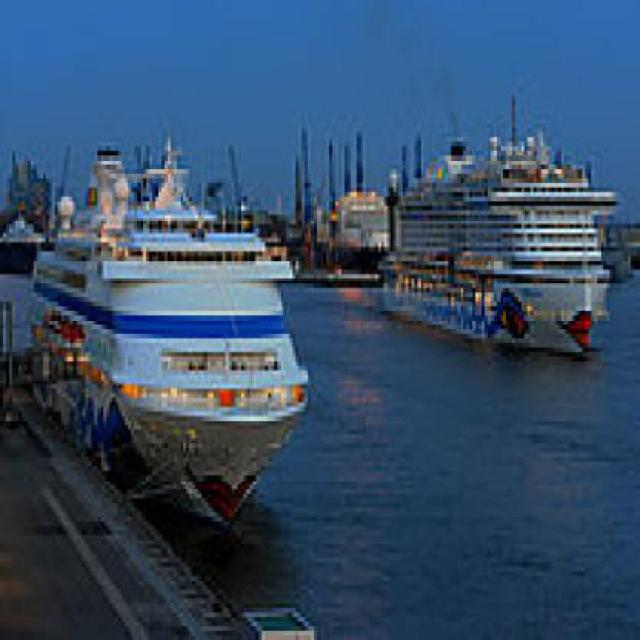cruise: (20, 138, 324, 532), (376, 115, 636, 372)
